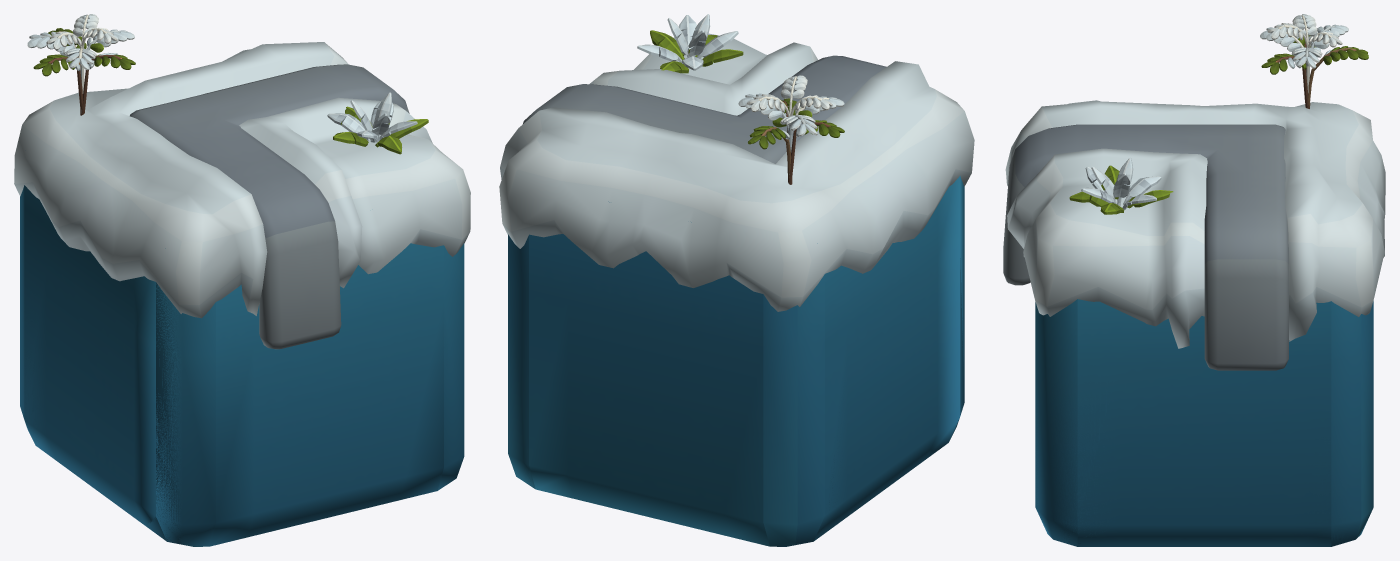
File: Winter11.fbx
3 views of the same model, side by side, from view 1: azimuth 30°, elevation 25°; view 2: azimuth 150°, elevation 25°; view 3: azimuth 270°, elevation 25° (orthographic). The views are drawn at different scales.
Parts seen in each view (by area): view 1: Winter11, Winter_Cube11.002, Road11.002, Winter_Base.001, Winter_Cube_11.001; view 2: Winter11, Winter_Cube11.002, Winter_Base.001, Road11.002, Winter_Cube_11.001; view 3: Winter11, Winter_Cube11.002, Winter_Base.001, Road11.002, Winter_Cube_11.001.
Boxes of the visible parts, bbox=[...] form: Winter11: bbox=[20, 185, 464, 546]; Winter_Cube11.002: bbox=[14, 42, 470, 318]; Road11.002: bbox=[130, 64, 409, 349]; Winter_Base.001: bbox=[20, 227, 464, 546]; Winter_Cube_11.001: bbox=[27, 14, 428, 154]; Winter11: bbox=[508, 176, 964, 546]; Winter_Cube11.002: bbox=[499, 33, 974, 311]; Winter_Base.001: bbox=[522, 258, 964, 537]; Road11.002: bbox=[523, 55, 886, 163]; Winter_Cube_11.001: bbox=[637, 14, 844, 184]; Winter11: bbox=[1035, 299, 1373, 546]; Winter_Cube11.002: bbox=[1005, 100, 1385, 348]; Winter_Base.001: bbox=[1035, 299, 1368, 546]; Road11.002: bbox=[1003, 124, 1288, 370]; Winter_Cube_11.001: bbox=[1069, 14, 1368, 214].
Size of the model in its own units: 113 by 137 by 113.
